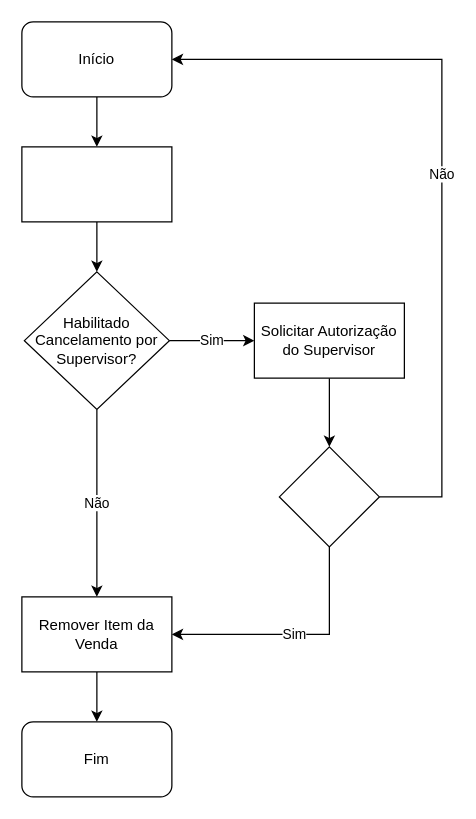
The diagram is 476 pixels wide and 819 high, and some of its shapes have lost their labels. The centre of each missing label's shape, as x and y in pixels:
Autorizado?: the point at 328,496
Selecionar item: the point at 96,184
